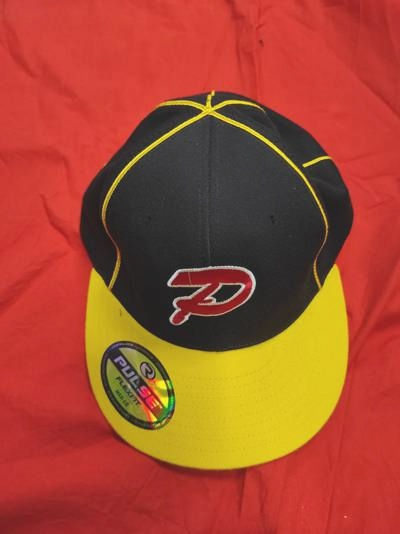Hat: (56, 80, 365, 468)
